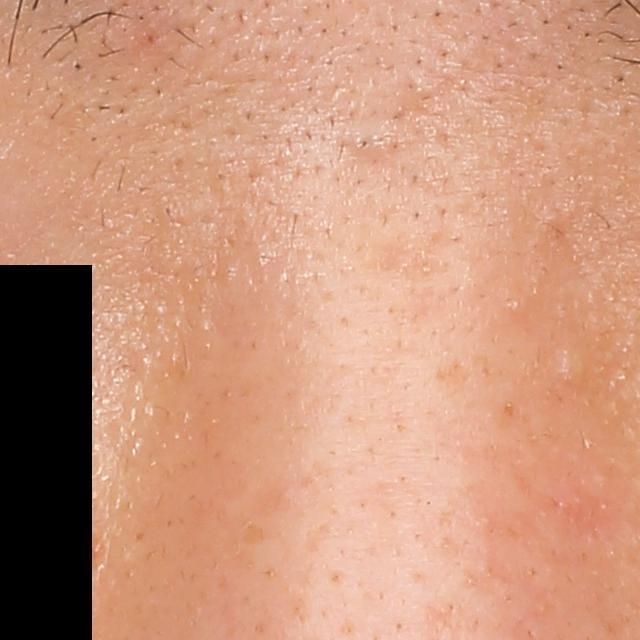comedo: (553, 347, 594, 389)
